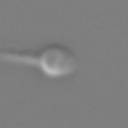normal: (1, 40, 40, 70)
